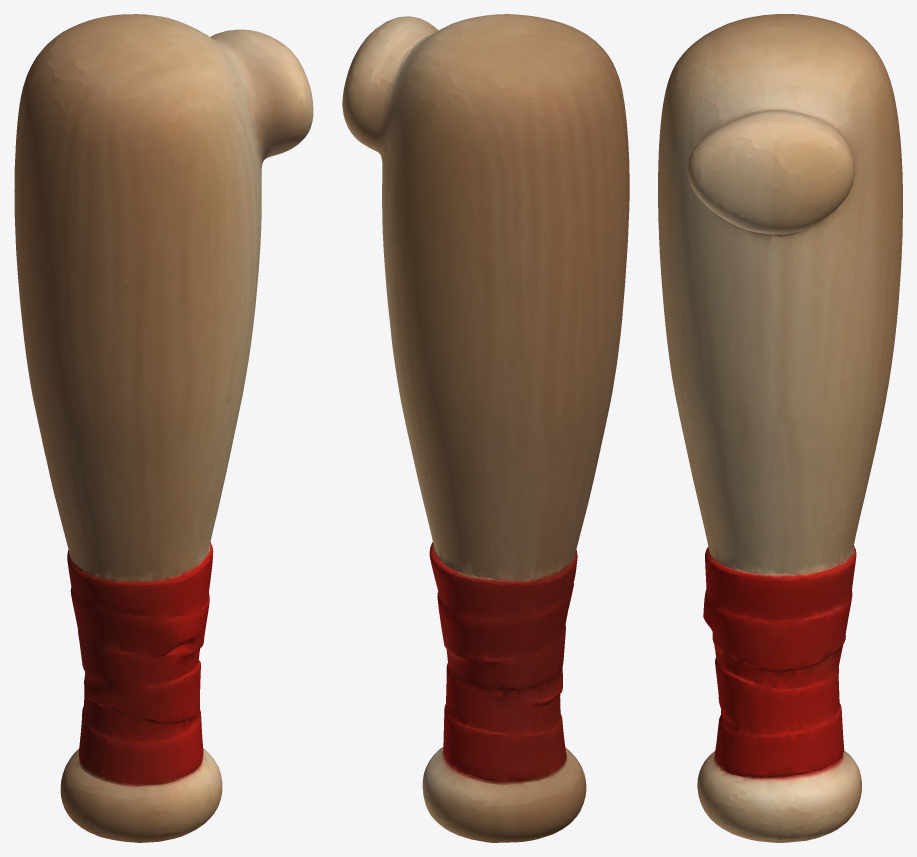
The model's file is bat.glb.
3 renders of one model, left to right at view 1: azimuth 30°, elevation 25°; view 2: azimuth 150°, elevation 25°; view 3: azimuth 270°, elevation 25°, orthographic.
Visible parts, largest first — view 1: world; view 2: world; view 3: world.
Part boxes in pixels (bbox=[...]): world: bbox=[14, 14, 313, 842]; world: bbox=[342, 14, 629, 842]; world: bbox=[658, 14, 902, 842].
Size of the model in its own units: 0.3 by 0.8936 by 0.2502.
1 material, 1 textured.
